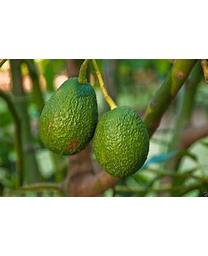avocado: (38, 77, 98, 156), (91, 103, 152, 179)
